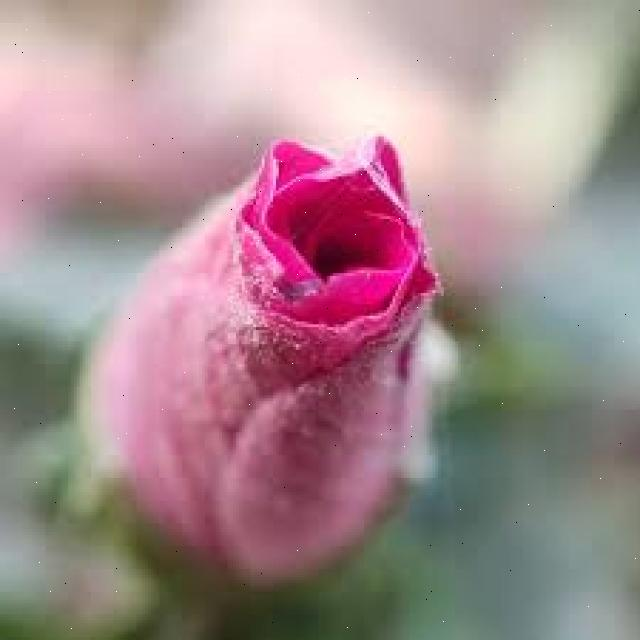Unbloomed: (80, 127, 447, 588)
